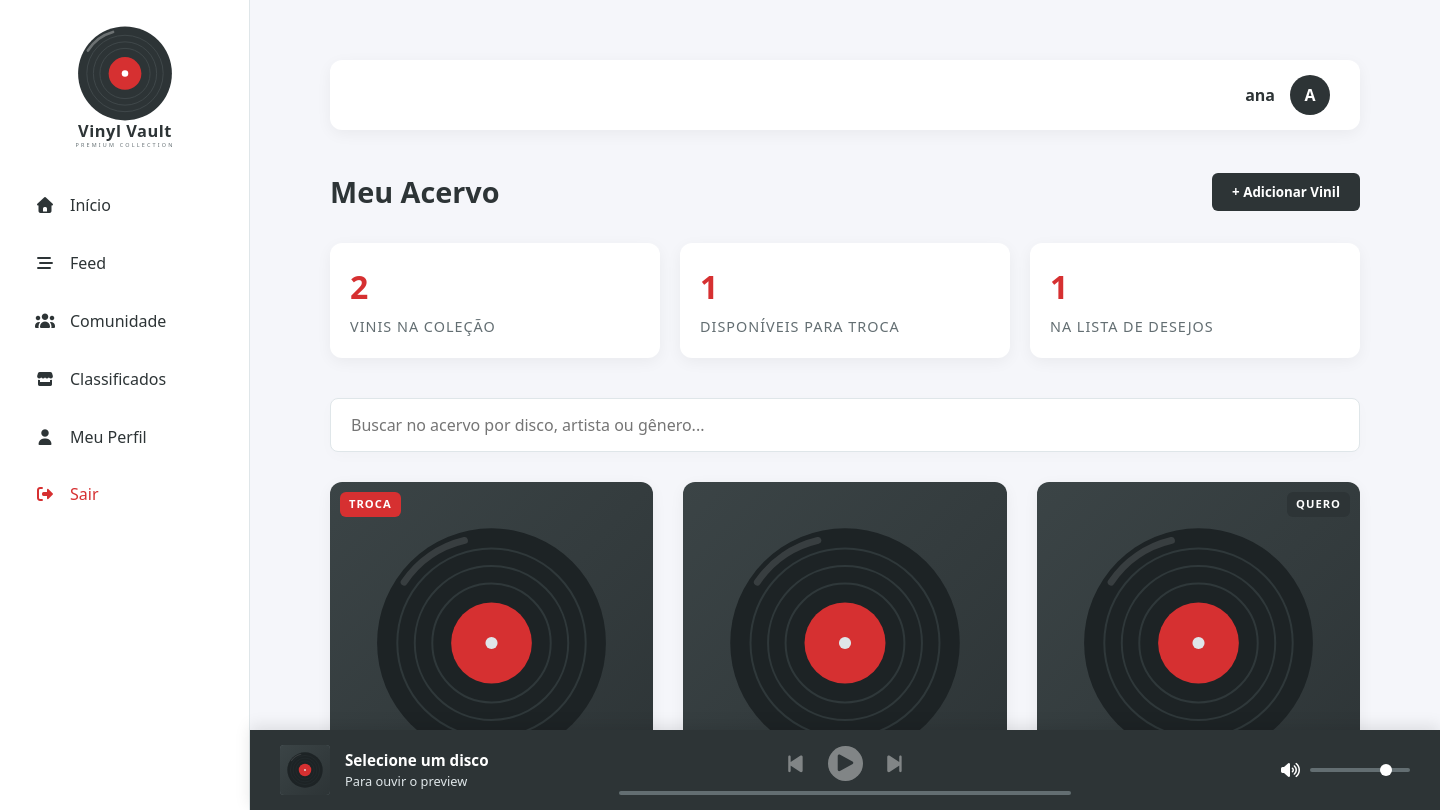
Test: Dashboard › filters the grid by title, artist or genre
This screenshot has width=1440, height=810.
Step 1. Type "jazz" into the search field labelled "Buscar no acervo" → (845, 425), box x1=330 y1=398 x2=1360 y2=452
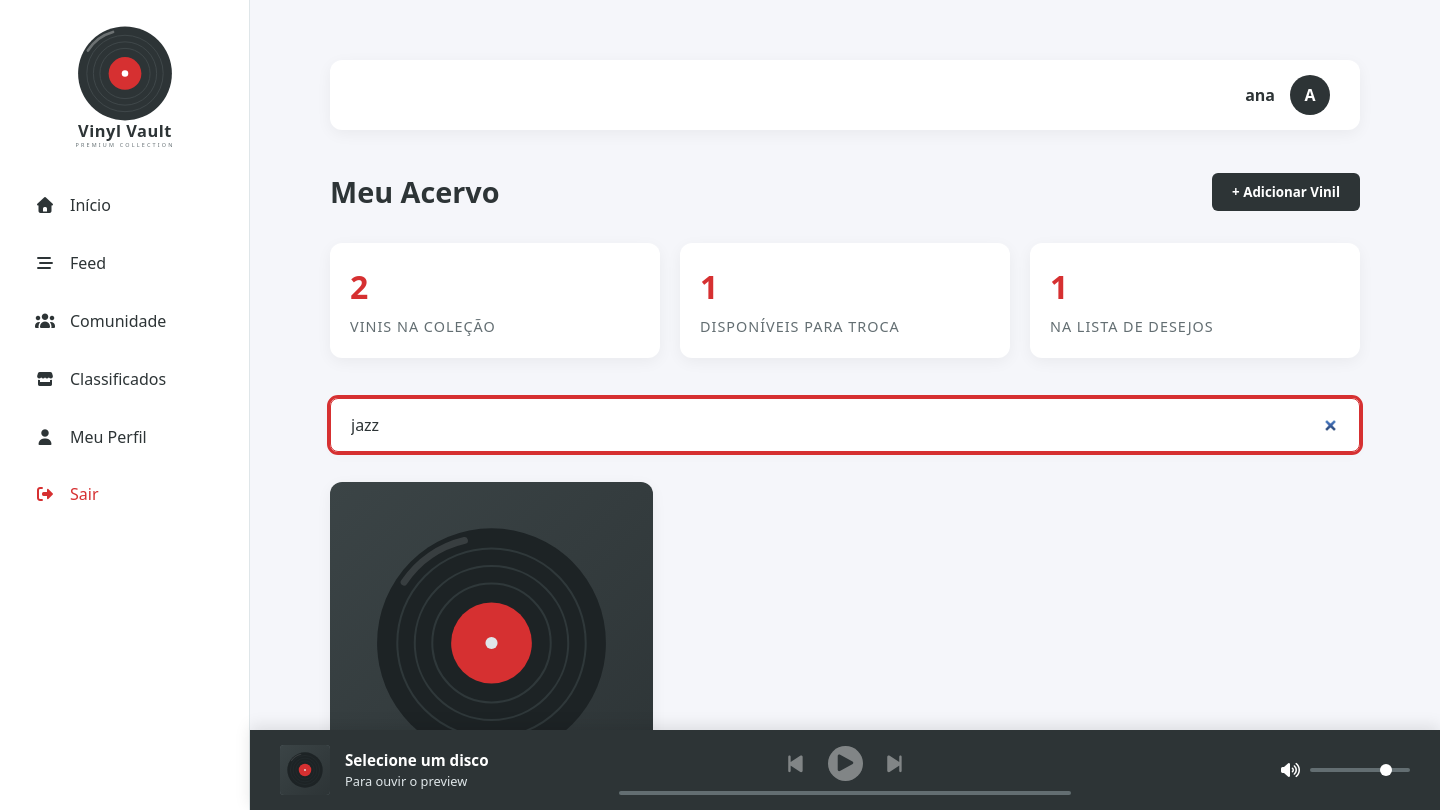
Step 2. Replace the text in the search field named "Buscar no acervo" with "zzz" → (845, 425), box x1=330 y1=398 x2=1360 y2=452
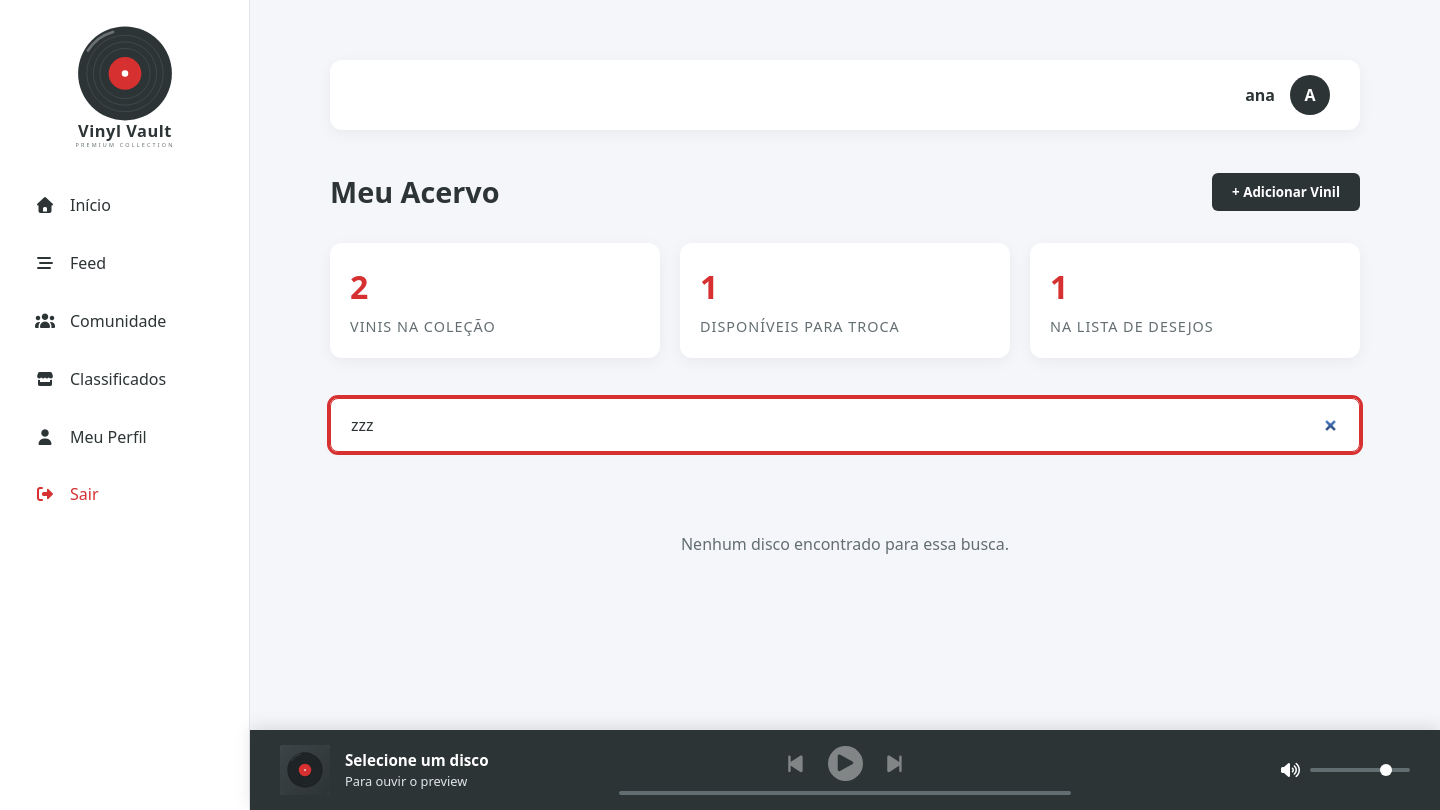
Expected: the text "Nenhum disco encontrado para essa busca." is shown, x1=681 y1=532 x2=1009 y2=556
